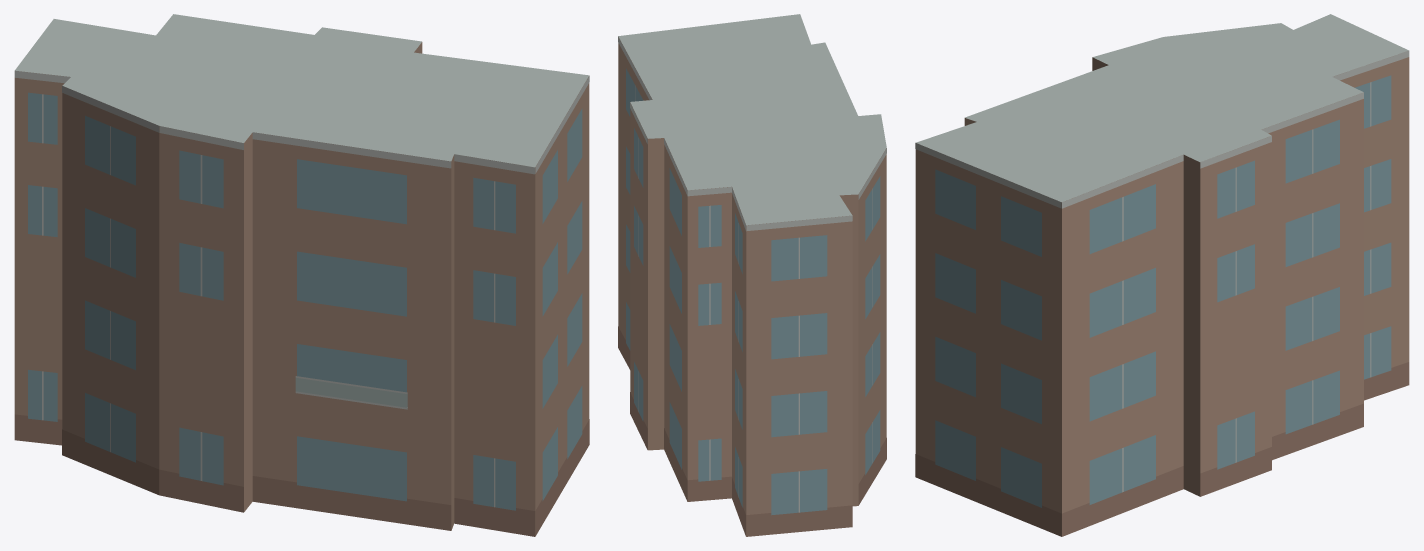
File: survey-upis-32512392.glb
The picture shows the model from 3 angles, left to right: view 1: azimuth 30°, elevation 25°; view 2: azimuth 150°, elevation 25°; view 3: azimuth 270°, elevation 25°; orthographic projection. The views are drawn at different scales.
Visible parts, largest first — view 1: survey-upis-32512392.tmp; view 2: survey-upis-32512392.tmp; view 3: survey-upis-32512392.tmp.
Part boxes in pixels (x1,y1,x2,y2): survey-upis-32512392.tmp: [14, 14, 589, 536]; survey-upis-32512392.tmp: [618, 14, 886, 536]; survey-upis-32512392.tmp: [915, 14, 1409, 536].
Bounding box in the file's own units: 15.47 × 12.8 × 17.13.
